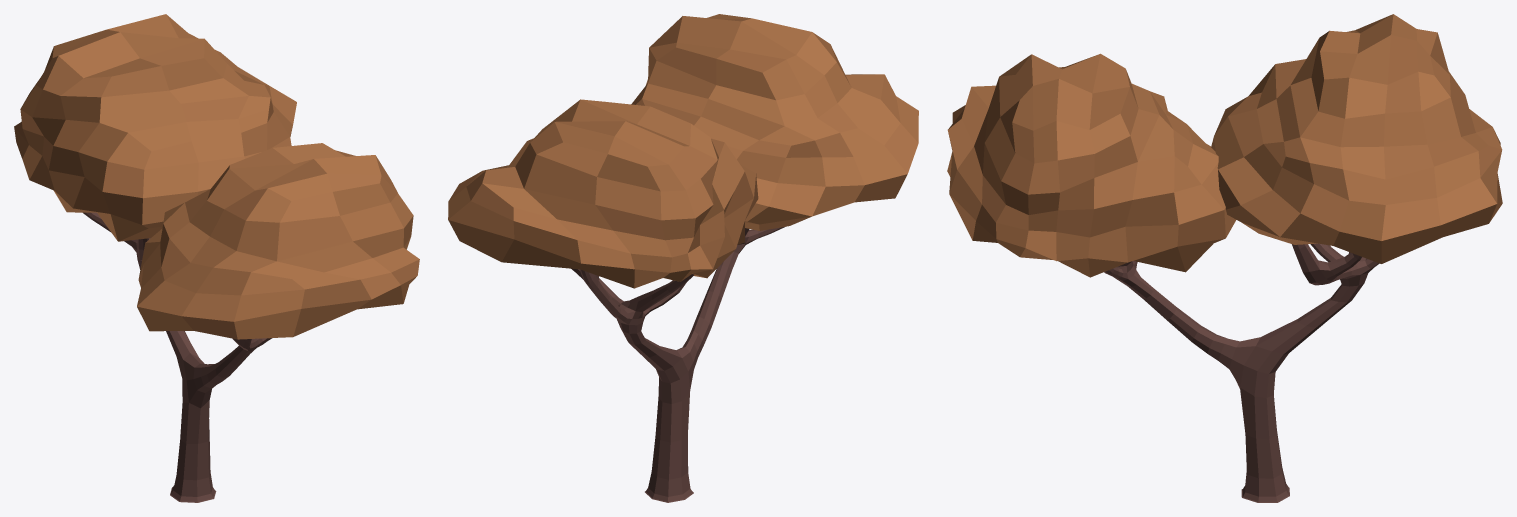
Rendered from CommonTree_Autumn_1-transformed.glb.
The picture shows the model from 3 angles, left to right: view 1: azimuth 30°, elevation 25°; view 2: azimuth 150°, elevation 25°; view 3: azimuth 270°, elevation 25°; orthographic projection. The views are drawn at different scales.
Parts seen in each view (by area): view 1: CommonTree_Autumn_1; view 2: CommonTree_Autumn_1; view 3: CommonTree_Autumn_1.
Boxes of the visible parts, bbox=[...] form: CommonTree_Autumn_1: bbox=[14, 14, 419, 502]; CommonTree_Autumn_1: bbox=[448, 14, 918, 502]; CommonTree_Autumn_1: bbox=[947, 14, 1502, 502].
Bounding box in the file's own units: 1.89 × 2.48 × 2.77.
